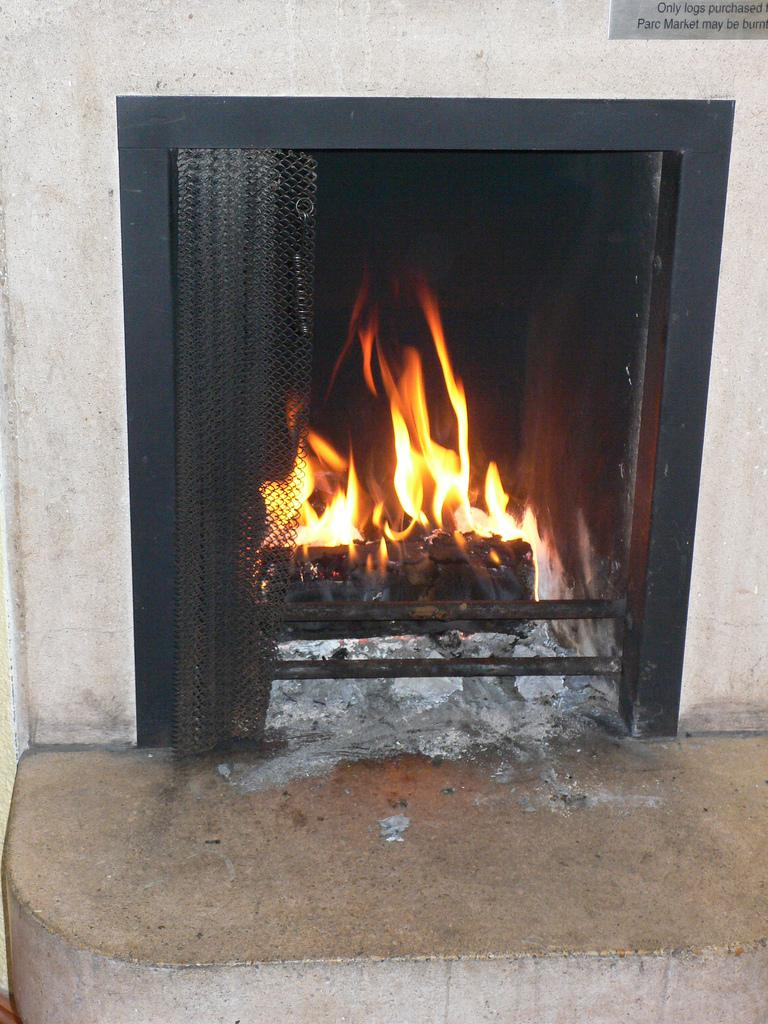fire: (400, 448, 470, 530)
